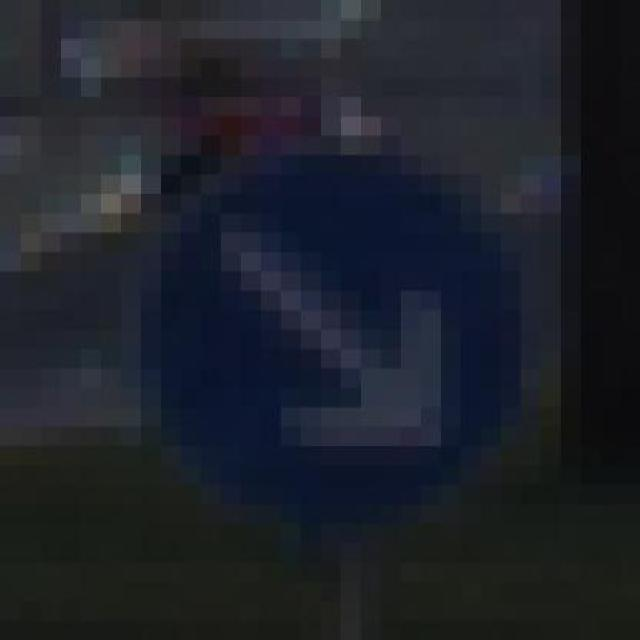Keep-Right: (100, 116, 580, 562)
